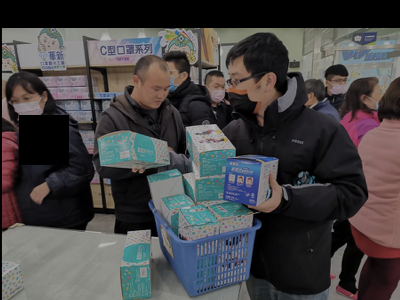with_mask: (226, 71, 262, 120), (9, 91, 44, 120), (209, 79, 226, 104), (329, 75, 349, 93)
without_mask: (139, 82, 170, 109)
